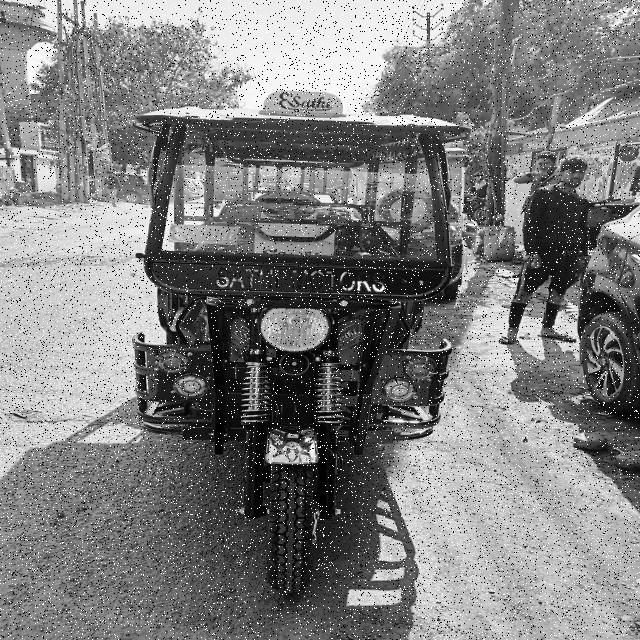Toto: (118, 96, 478, 594)
